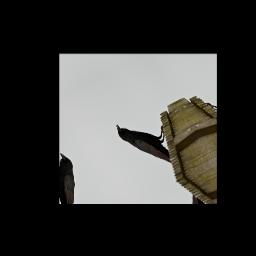Crow: (112, 107, 185, 177)
